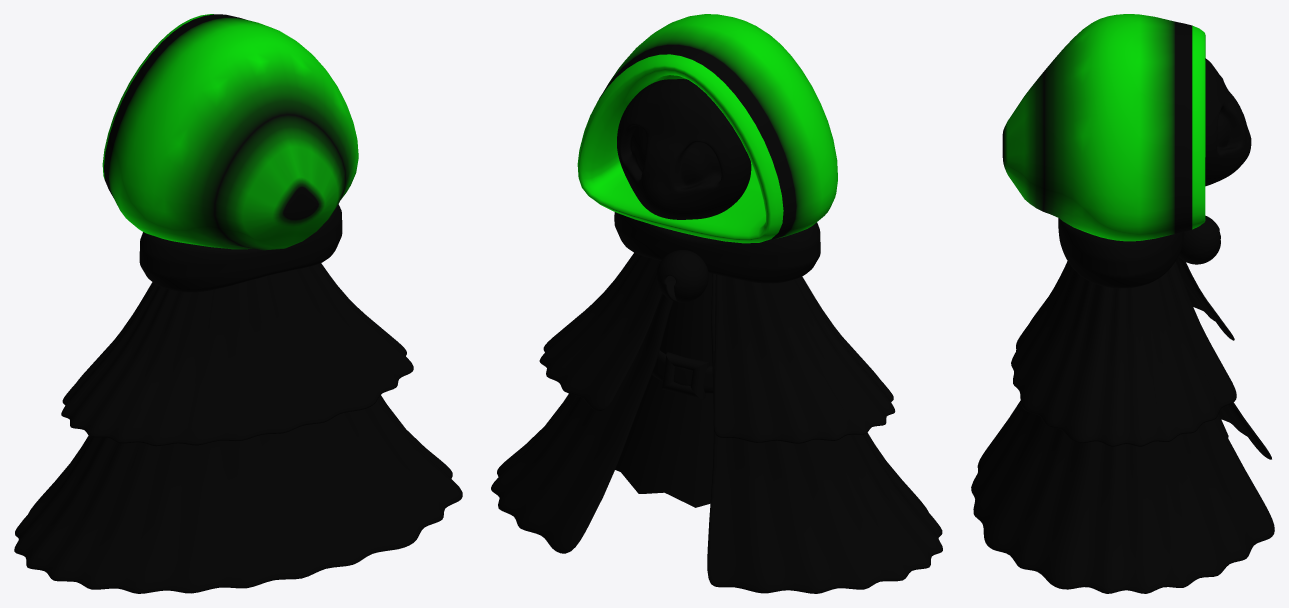
Rendered from Miwa.fbx.
3 renders of one model, left to right at view 1: azimuth 30°, elevation 25°; view 2: azimuth 150°, elevation 25°; view 3: azimuth 270°, elevation 25°, orthographic. The views are drawn at different scales.
Parts seen in each view (by area): view 1: Char1_pSphere1; view 2: Char1_pSphere1; view 3: Char1_pSphere1.
Part boxes in pixels (left/top/right/bottom): Char1_pSphere1: left=14, top=14, right=462, bottom=593; Char1_pSphere1: left=491, top=14, right=942, bottom=593; Char1_pSphere1: left=971, top=14, right=1274, bottom=593.
Size of the model in its own units: 1.9 by 2.13 by 1.24.
